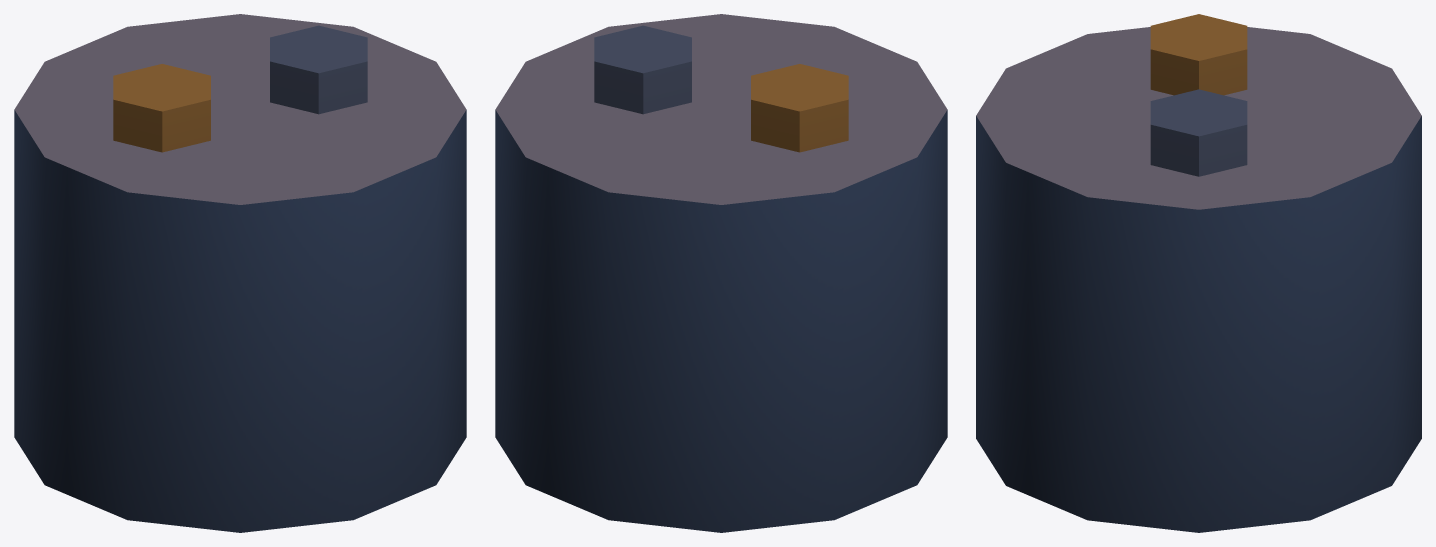
File: supercapacitor.glb
The picture shows the model from 3 angles, left to right: view 1: azimuth 30°, elevation 25°; view 2: azimuth 150°, elevation 25°; view 3: azimuth 270°, elevation 25°; orthographic projection.
Visible parts, largest first — view 1: supercapacitor; view 2: supercapacitor; view 3: supercapacitor.
Boxes of the visible parts, bbox=[...] form: supercapacitor: bbox=[14, 14, 466, 532]; supercapacitor: bbox=[495, 14, 947, 532]; supercapacitor: bbox=[976, 14, 1421, 532].
Size of the model in its own units: 0.2 by 0.18 by 0.2.
